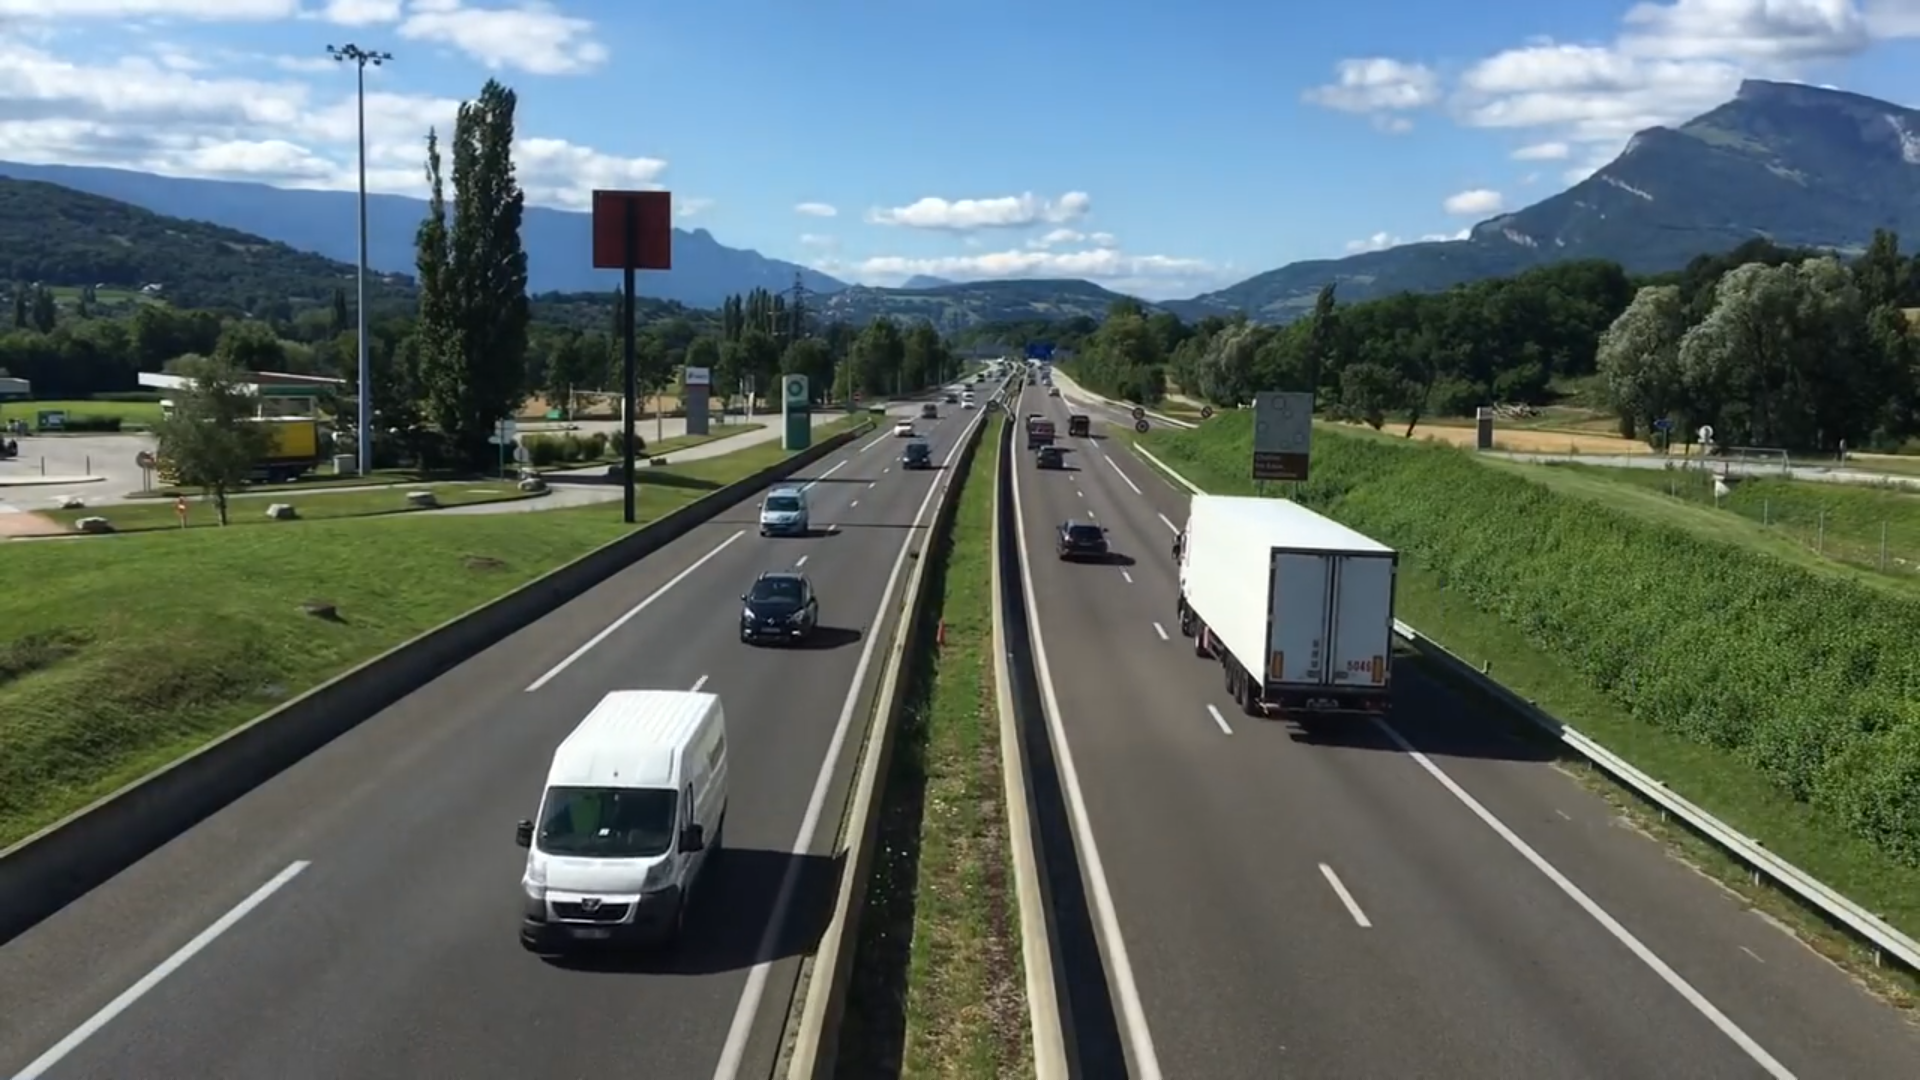HeavyVehicle: (1174, 491, 1398, 725)
LightVehicle: (520, 676, 735, 957)
